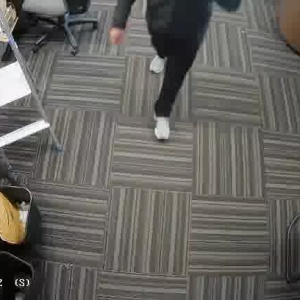person: (132, 0, 222, 142)
